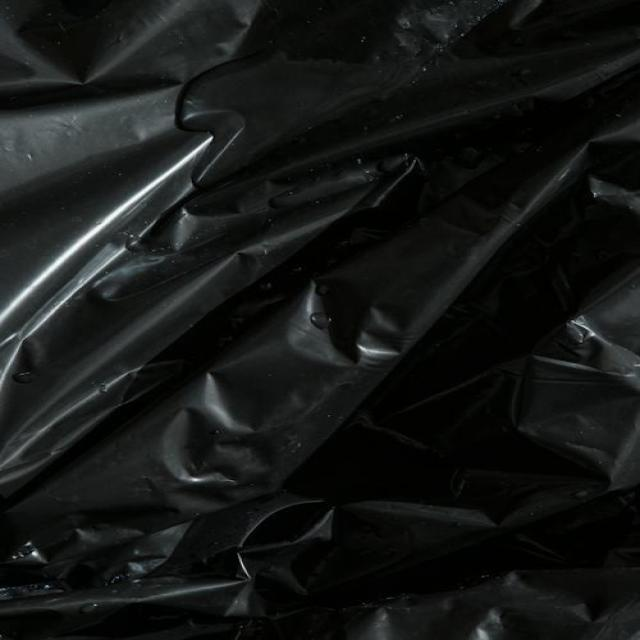trash: (5, 2, 637, 640)
